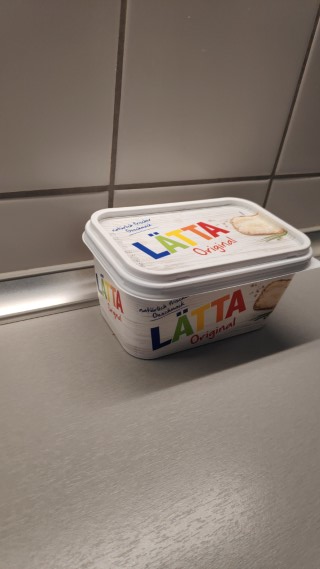laetta: (81, 195, 320, 359)
